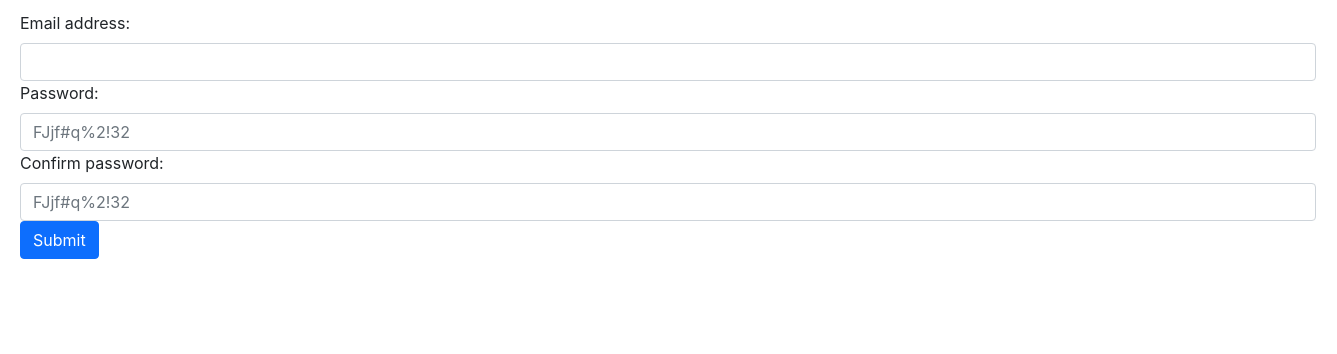
Test: Error handling › Should show confirm password error message on invalid confirm password
In the field labelled "Email address:": x=668, y=62 [20,43,1316,81], type "azaz22155@gmail.com"
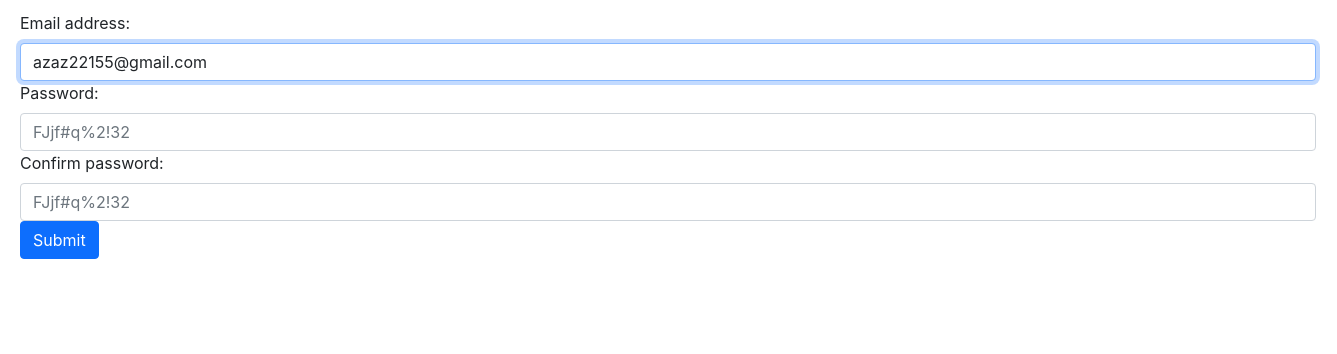
In the password field labelled "Password:": x=668, y=132 [20,113,1316,151], type "12345"
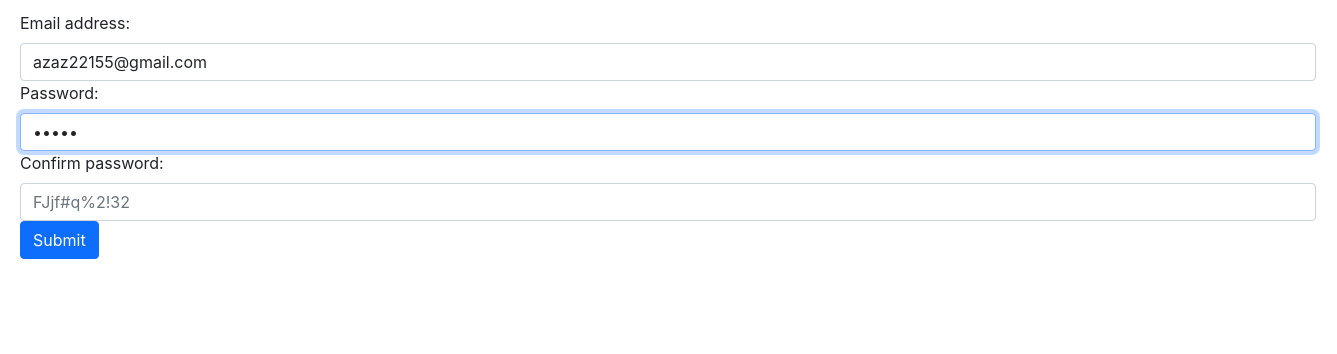
In the password field labelled "Confirm password:": x=668, y=202 [20,183,1316,221], type "1234"
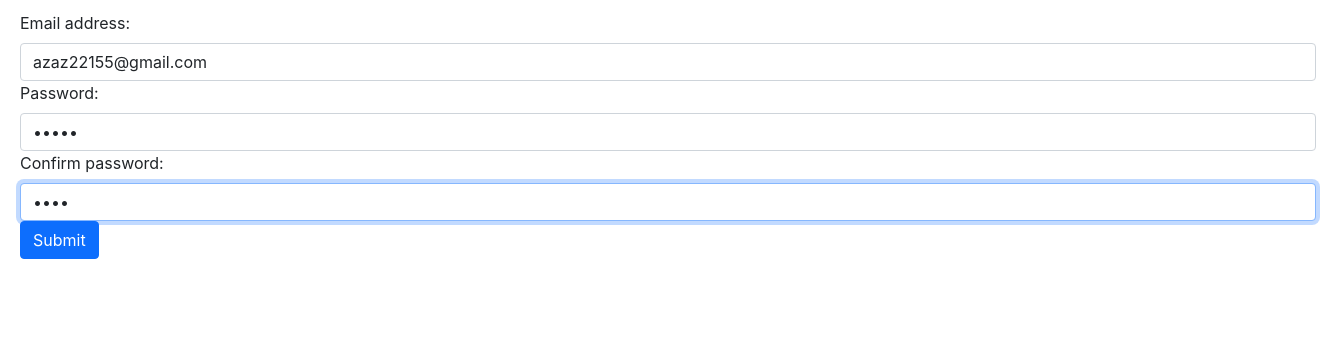
Click the button "Submit": x=59, y=240 [20,221,99,259]
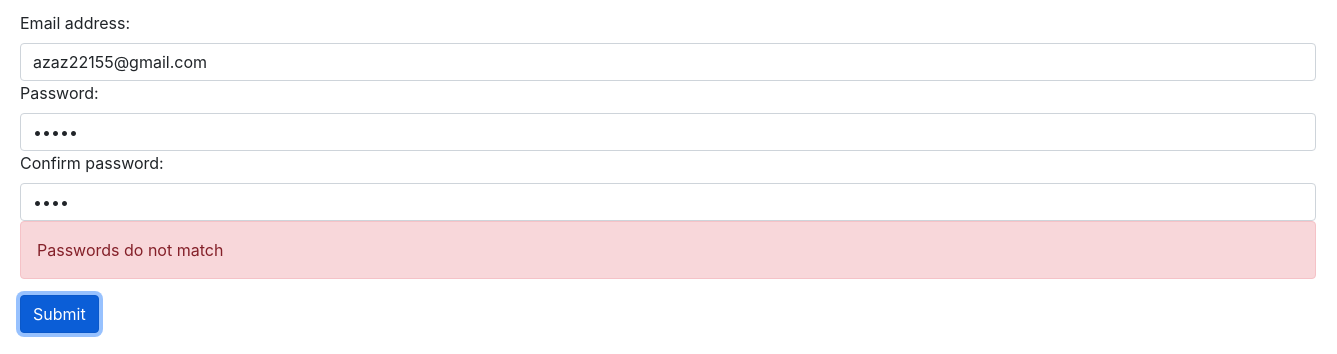
Result: the text "Passwords do not match" is shown at [20,221,1316,279]
